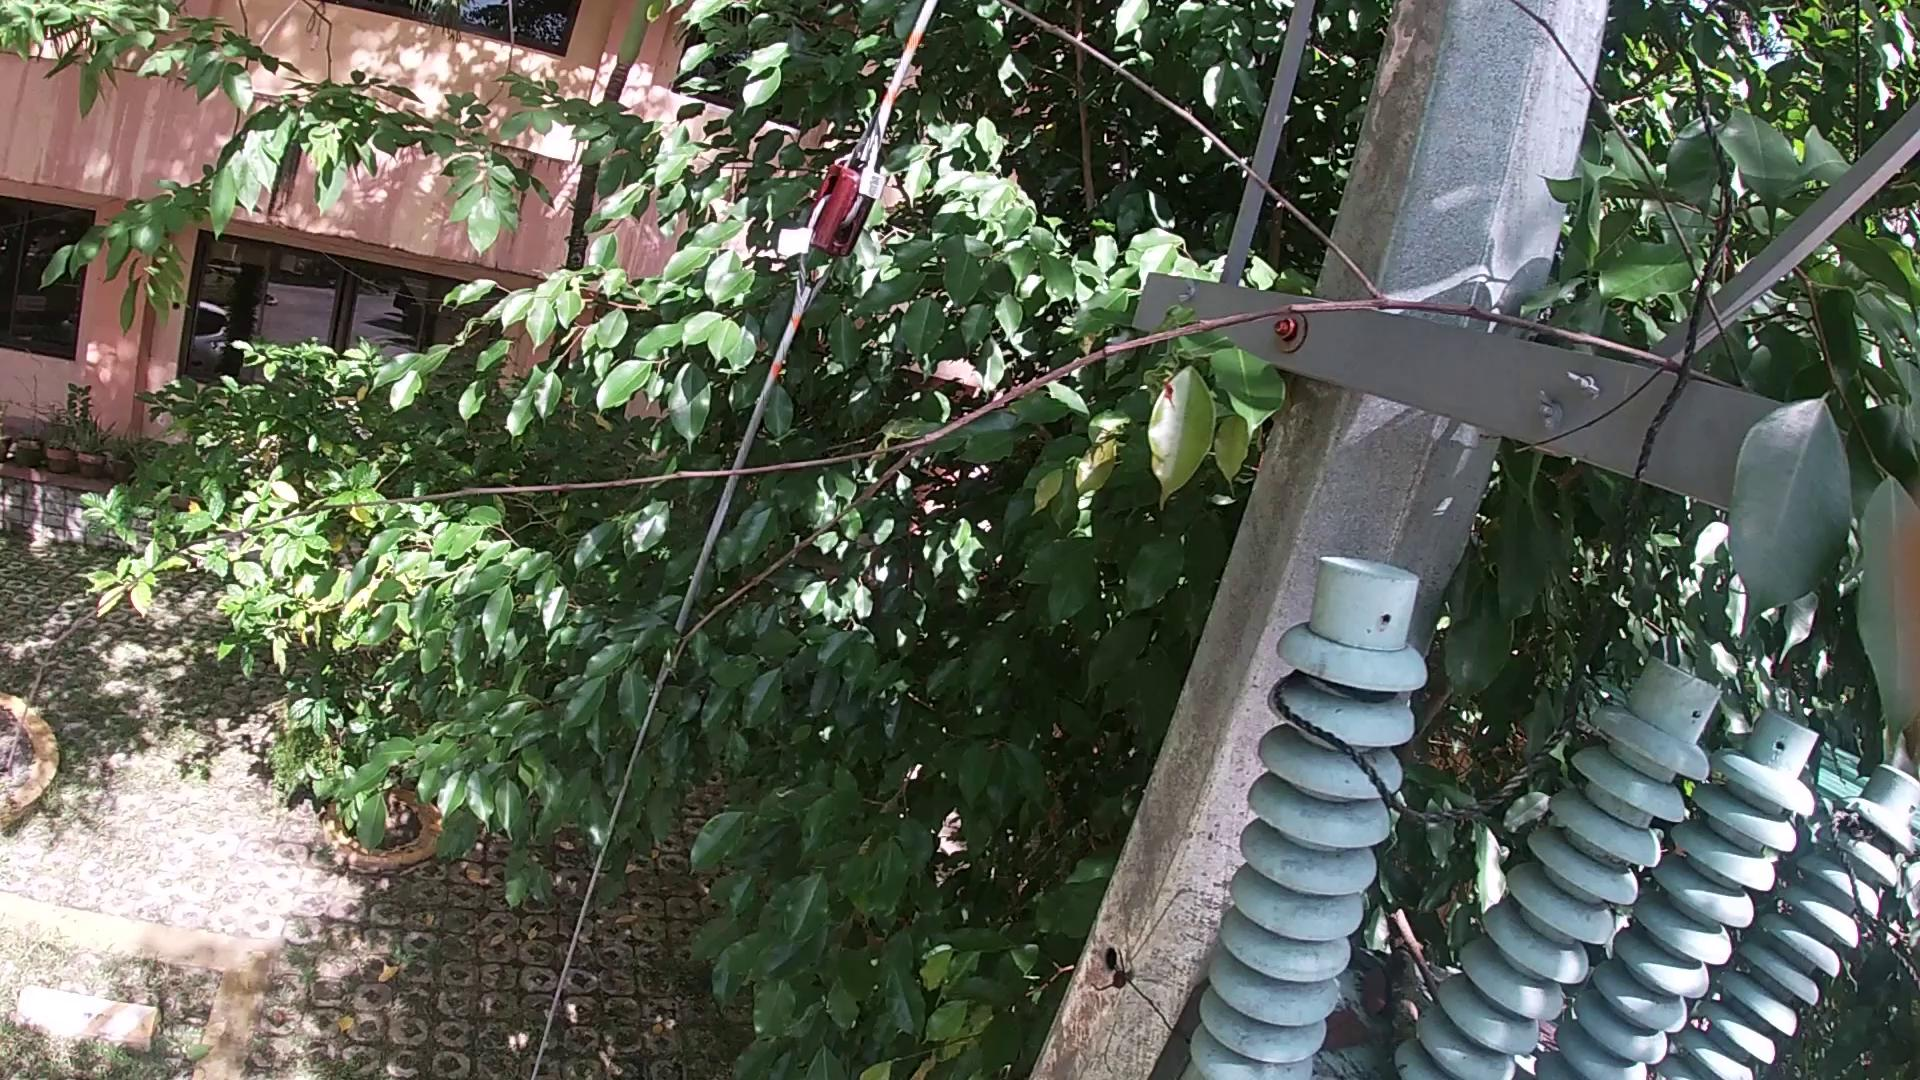leaf: (1313, 1022, 1377, 1051), (1364, 972, 1385, 1026), (1350, 945, 1379, 975)
tree branch: (3, 1, 1873, 781), (1385, 930, 1425, 1055), (1385, 898, 1443, 985)
